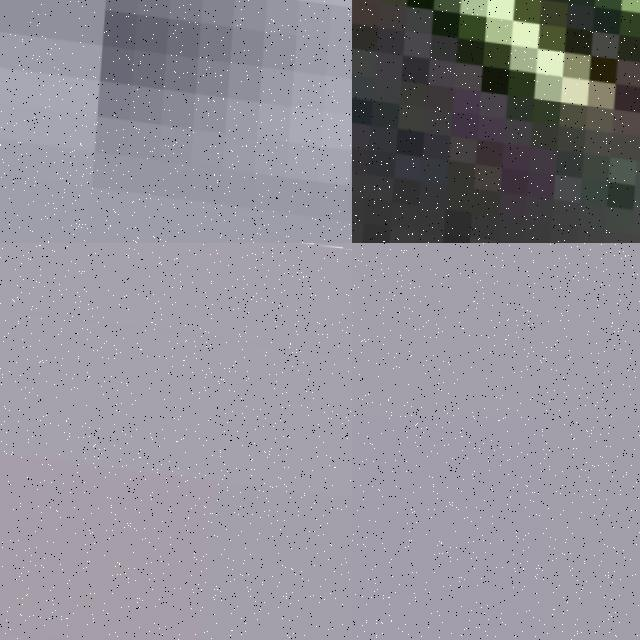drone: (0, 243, 352, 640), (0, 0, 352, 243), (352, 0, 640, 243)
